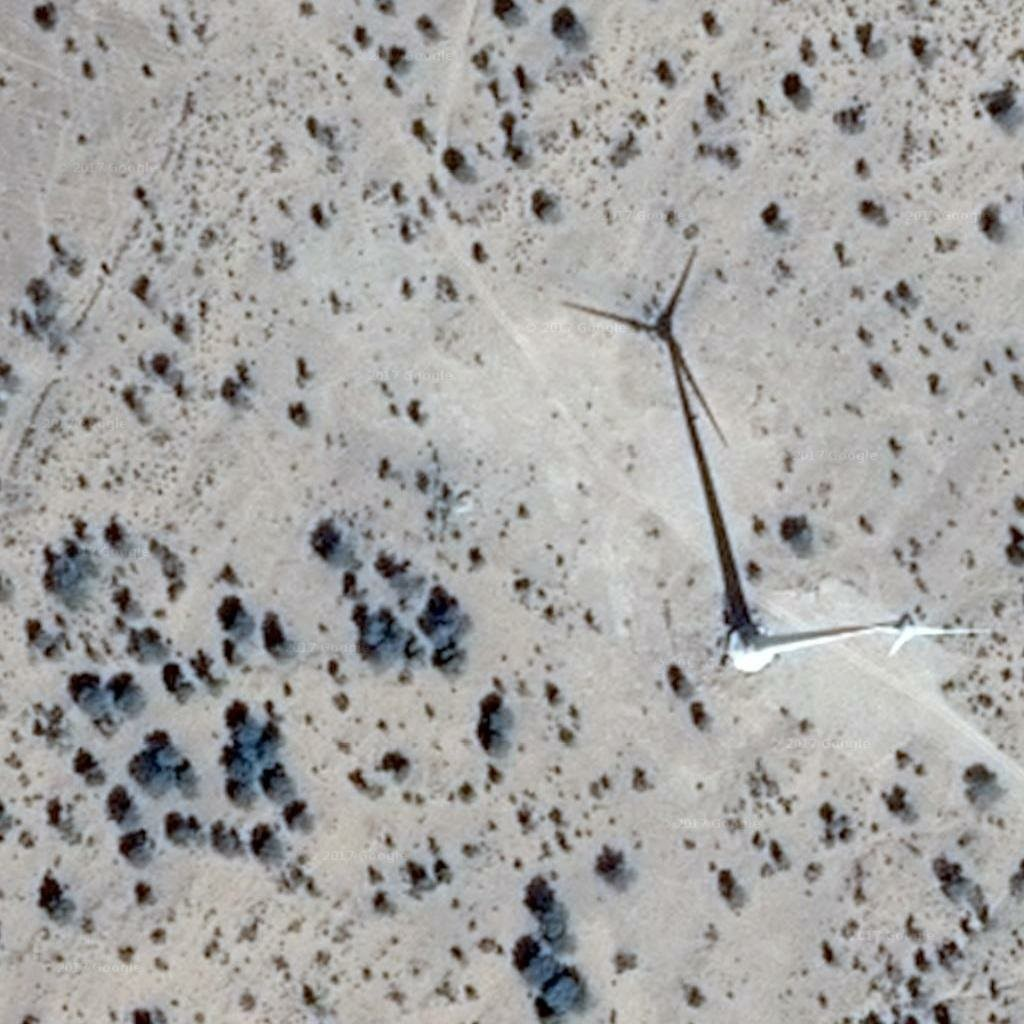Windmill: (555, 249, 765, 631)
